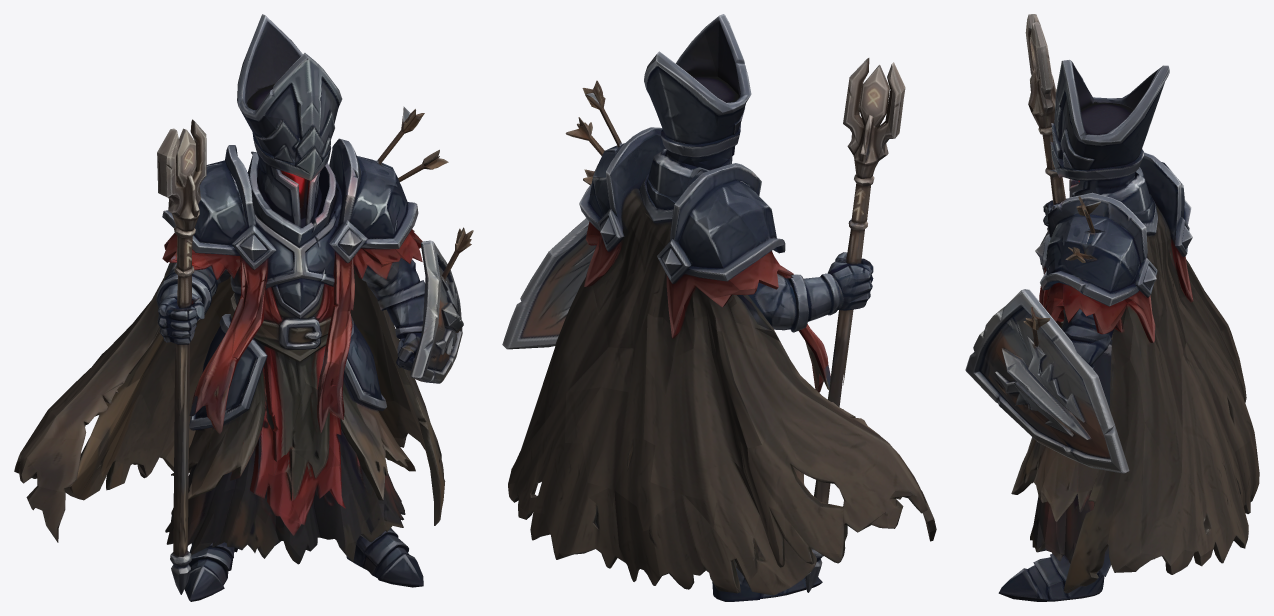
The model's file is classic_iron_bishop.glb.
3 views of the same model, side by side, from view 1: azimuth 30°, elevation 25°; view 2: azimuth 150°, elevation 25°; view 3: azimuth 270°, elevation 25° (orthographic). The views are drawn at different scales.
Visible parts, largest first — view 1: Mesh_0; view 2: Mesh_0; view 3: Mesh_0.
Part boxes in pixels (box(x1,y1,x2,y2)): Mesh_0: box(14, 14, 473, 601); Mesh_0: box(502, 14, 936, 601); Mesh_0: box(965, 14, 1259, 601).
Bounding box in the file's own units: 1.61 × 1.9 × 1.01.
Materials: 1 (1 with a texture image).
